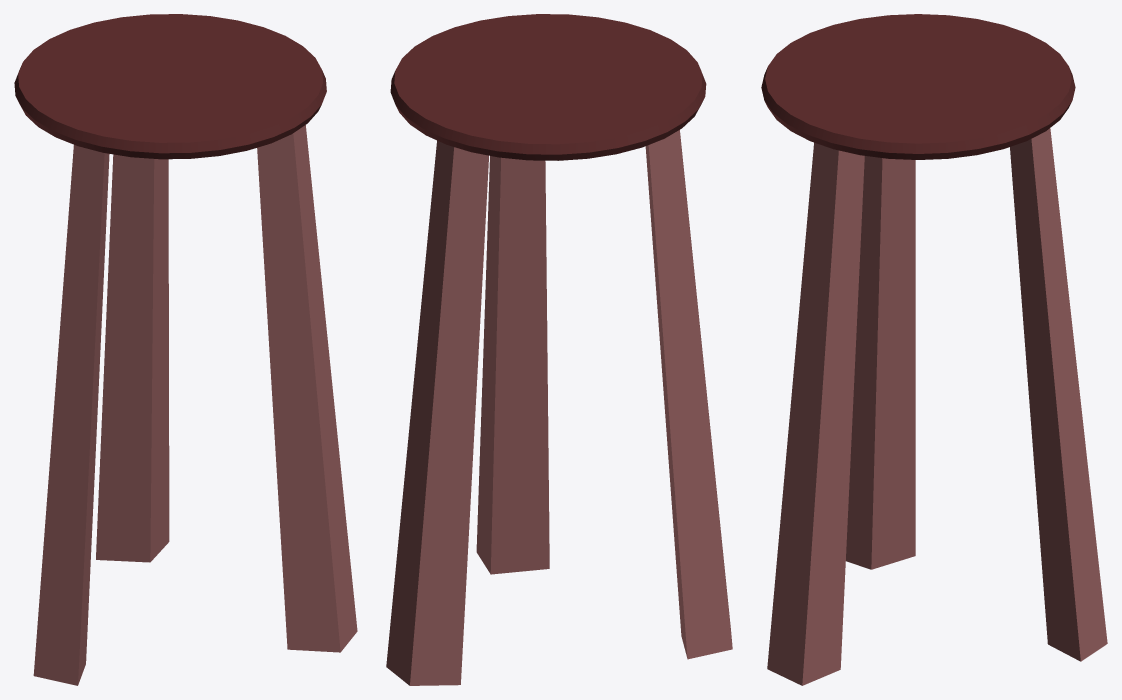
File: Stool.fbx
3 renders of one model, left to right at view 1: azimuth 30°, elevation 25°; view 2: azimuth 150°, elevation 25°; view 3: azimuth 270°, elevation 25°, orthographic.
Visible parts, largest first — view 1: Stool; view 2: Stool; view 3: Stool.
Part boxes in pixels (x1,y1,x2,y2): Stool: (14, 14, 357, 685); Stool: (386, 14, 732, 685); Stool: (761, 14, 1107, 685).
Size of the model in its own units: 0.8028 by 1.41 by 0.8125.
